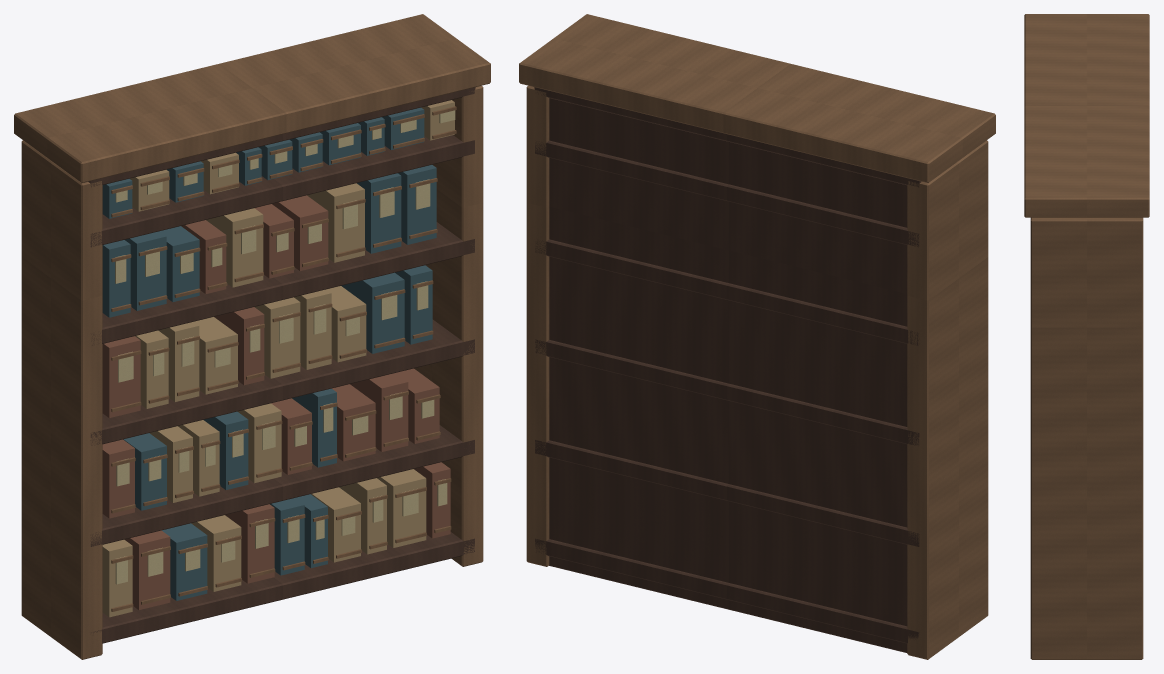
The model's file is scripture_shelf.glb.
The picture shows the model from 3 angles, left to right: view 1: azimuth 30°, elevation 25°; view 2: azimuth 150°, elevation 25°; view 3: azimuth 270°, elevation 25°; orthographic projection. The views are drawn at different scales.
Parts seen in each view (by area): view 1: Scripture_CarvedWood, Scripture_Timber, Scripture_Ochre, Scripture_Indigo, Scripture_RedBinding, Scripture_Paper; view 2: Scripture_Timber, Scripture_CarvedWood; view 3: Scripture_CarvedWood.
Part boxes in pixels (<box>): Scripture_CarvedWood: <box>14,14,490,659</box>; Scripture_Timber: <box>88,87,475,643</box>; Scripture_Ochre: <box>102,100,454,617</box>; Scripture_Indigo: <box>102,107,436,600</box>; Scripture_RedBinding: <box>102,195,450,609</box>; Scripture_Paper: <box>115,110,455,584</box>; Scripture_Timber: <box>534,87,921,652</box>; Scripture_CarvedWood: <box>519,14,995,659</box>; Scripture_CarvedWood: <box>1024,14,1149,659</box>.
Size of the model in its own units: 2.65 by 3.1 by 0.76.
6 materials, 3 textured.
